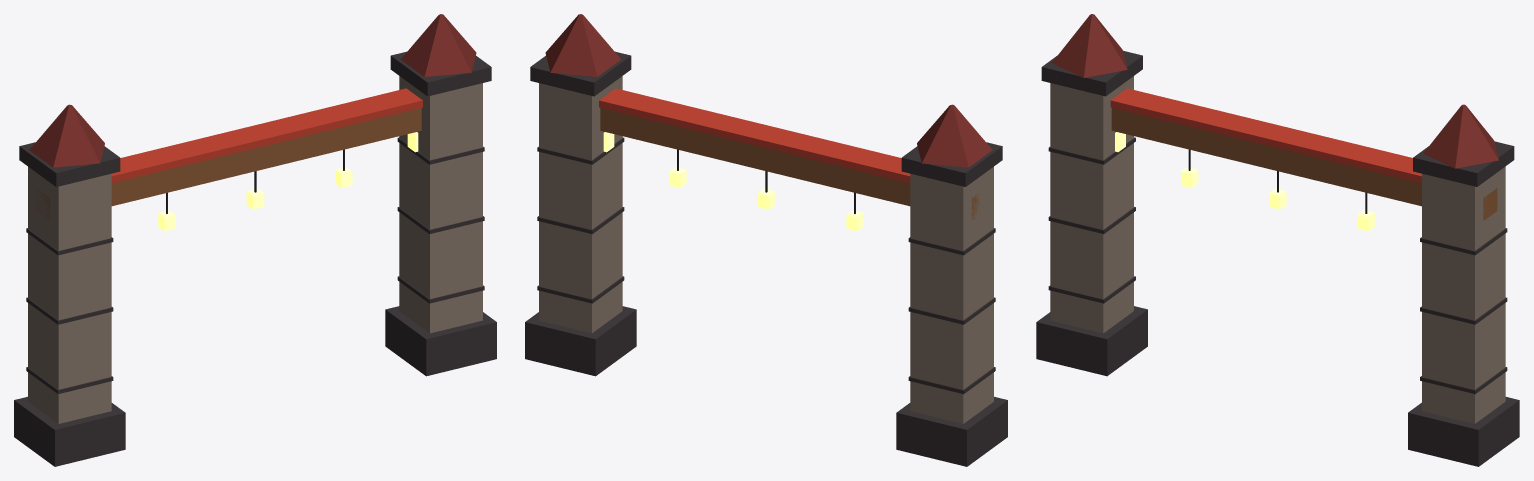
Rendered from bridge_tower.glb.
3 views of the same model, side by side, from view 1: azimuth 30°, elevation 25°; view 2: azimuth 150°, elevation 25°; view 3: azimuth 330°, elevation 25° (orthographic).
Parts seen in each view (by area): view 1: LOD0; view 2: LOD0; view 3: LOD0.
Boxes of the visible parts, box(x1,y1,x2,y2) form: LOD0: box(14, 14, 496, 466); LOD0: box(525, 14, 1007, 466); LOD0: box(1036, 14, 1519, 466).
Size of what is drawn, in the model's own units: 20 by 14.6 by 3.2.
